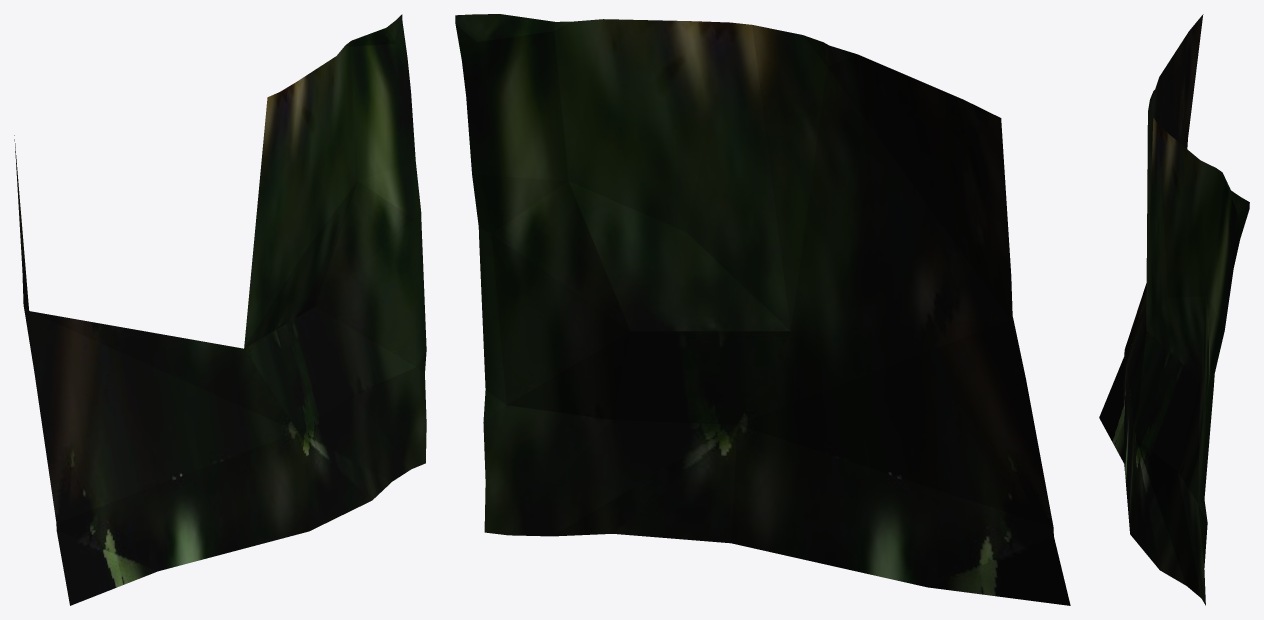
3 renders of one model, left to right at view 1: azimuth 30°, elevation 25°; view 2: azimuth 150°, elevation 25°; view 3: azimuth 270°, elevation 25°, orthographic. The views are drawn at different scales.
Size of the model in its own units: 0.8373 by 0.8374 by 0.2834.
3 materials, 3 textured.
